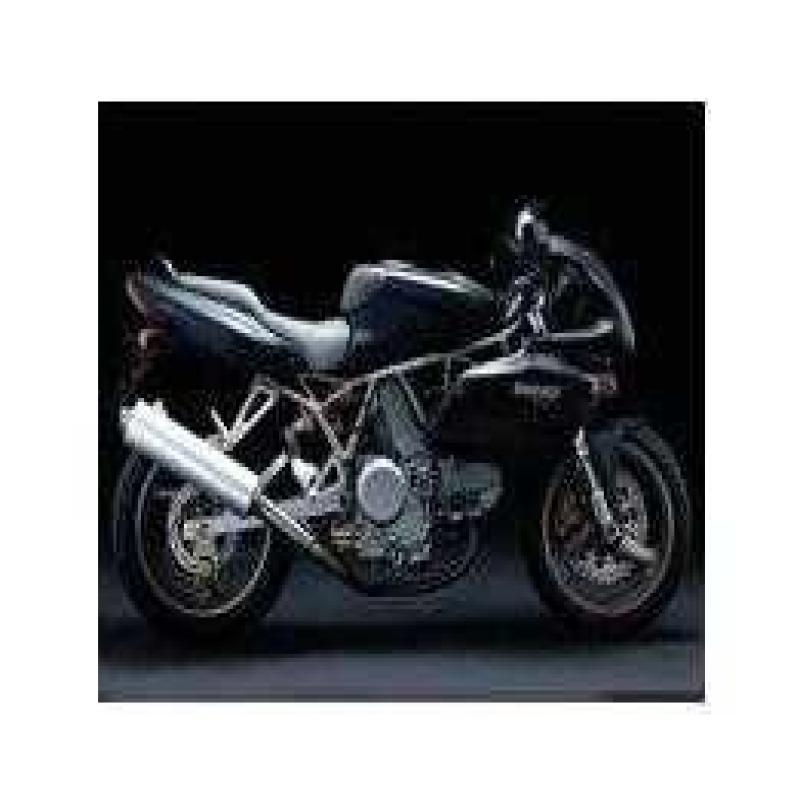bike: (100, 110, 697, 665)
